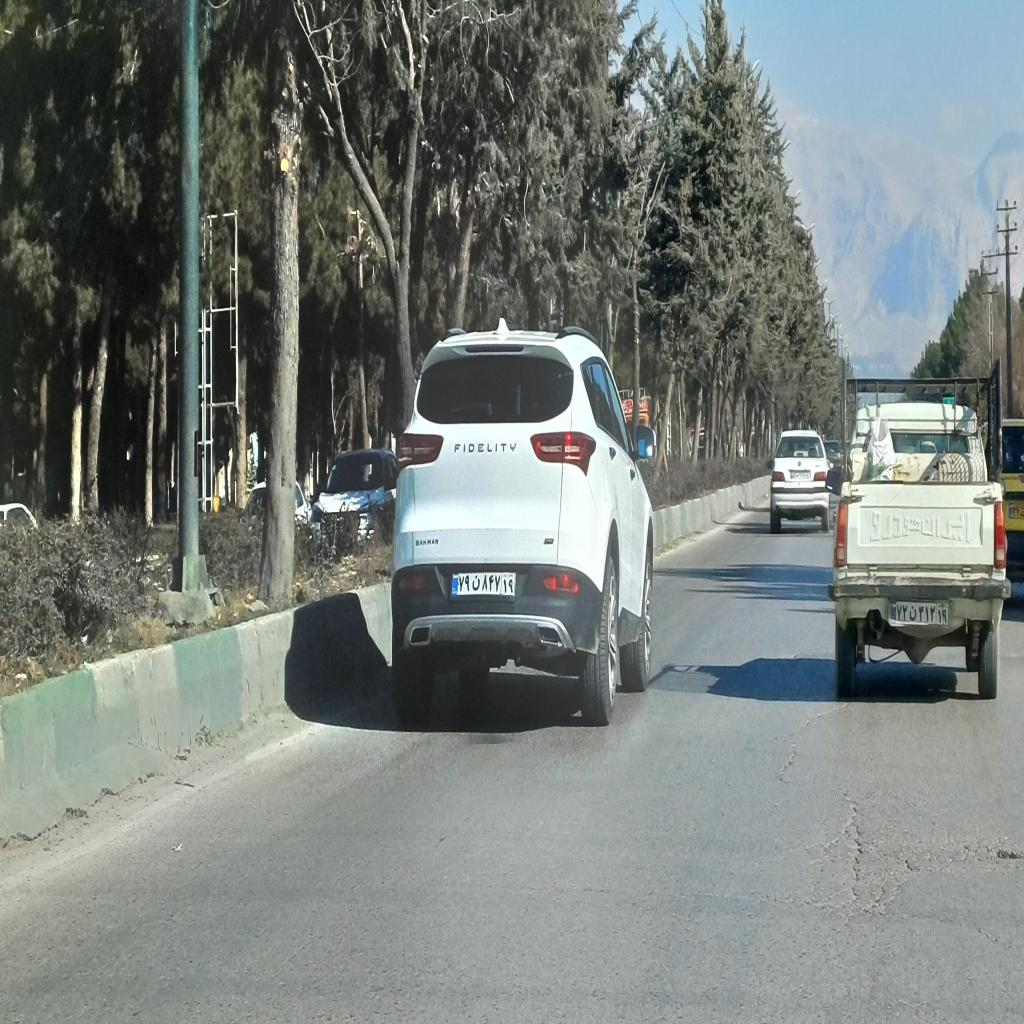Plates: (891, 599, 949, 625), (452, 572, 515, 595)
